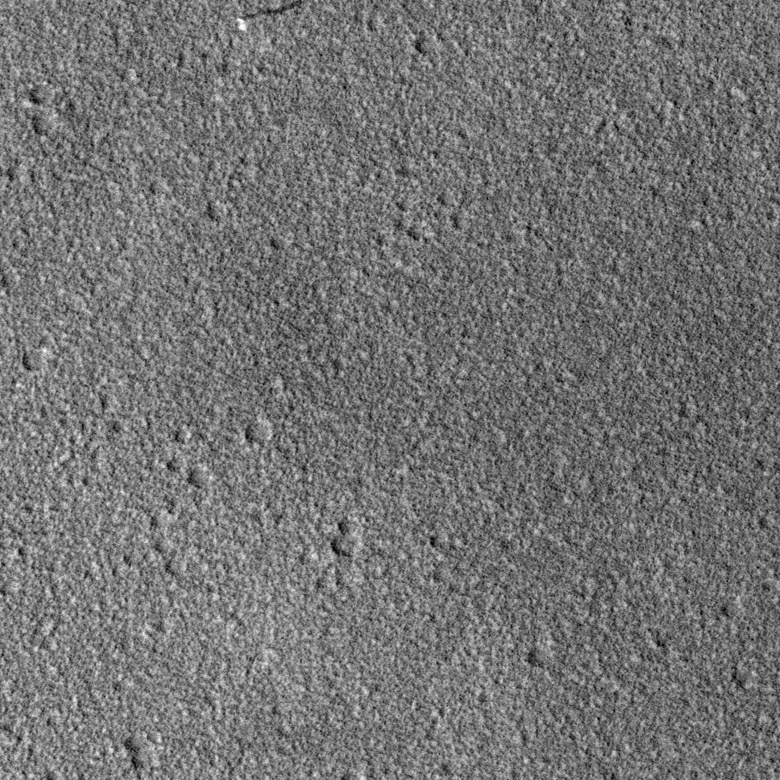dust_devil: (232, 0, 310, 35)
